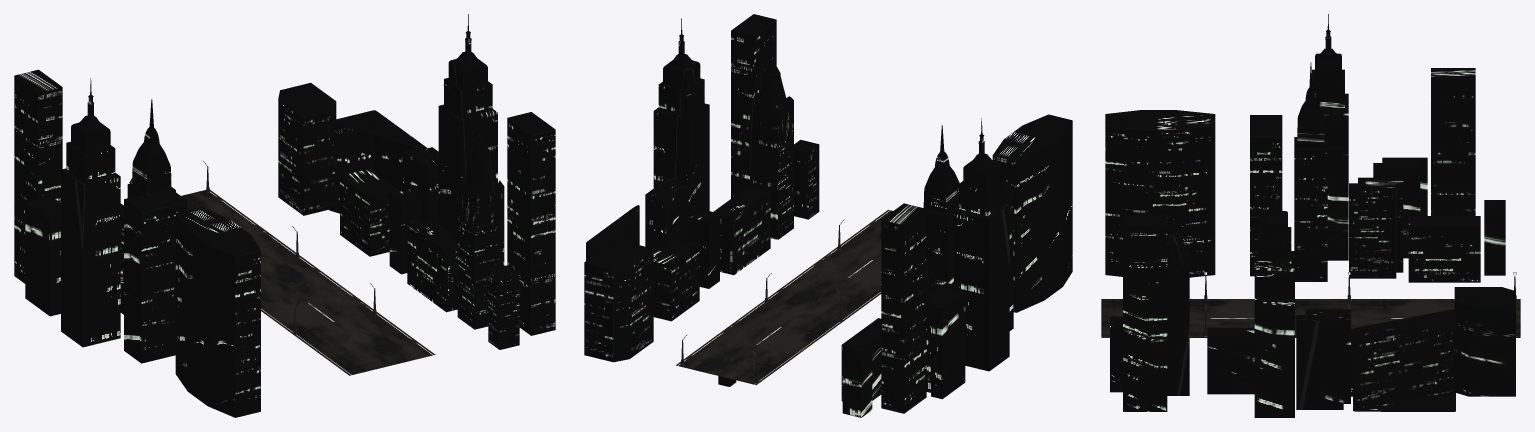
The picture shows the model from 3 angles, left to right: view 1: azimuth 30°, elevation 25°; view 2: azimuth 150°, elevation 25°; view 3: azimuth 270°, elevation 25°; orthographic projection. The views are drawn at different scales.
Visible parts, largest first — view 1: Object_30.001, Object_28.001, 路面, Object_40.002, Object_24.001, Object_40.001, Object_37, Object_14, Object_28, Object_10.002, Object_12.002, Object_6 (+6 smaller); view 2: 路面, Object_30.001, Object_28.001, Object_40.001, Object_14, Object_28, Object_37, Object_40.002, Object_10.002, Object_12.002, Object_35.001, Object_6 (+7 smaller); view 3: Object_30.001, Object_40.002, Object_42, Object_28, Object_14, Object_40.001, Object_35.001, 路面, Object_10.001, Object_10.003, Object_28.001, Object_12.001 (+7 smaller).
Boxes of the visible parts, box(x1,y1,x2,y2) form: Object_30.001: box(175, 207, 260, 417); Object_28.001: box(61, 78, 120, 347); 路面: box(181, 189, 435, 375); Object_40.002: box(507, 112, 555, 335); Object_24.001: box(124, 188, 187, 363); Object_40.001: box(14, 69, 62, 283); Object_37: box(457, 126, 504, 329); Object_14: box(278, 82, 336, 215); Object_28: box(438, 14, 497, 236); Object_10.002: box(25, 199, 60, 316); Object_12.002: box(407, 218, 457, 312); Object_6: box(340, 168, 399, 256); 路面: box(676, 209, 892, 384); Object_30.001: box(992, 114, 1072, 312); Object_28.001: box(954, 118, 1009, 371); Object_40.001: box(881, 203, 926, 413); Object_14: box(584, 241, 653, 362); Object_28: box(653, 18, 709, 242); Object_37: box(750, 49, 793, 239); Object_40.002: box(731, 14, 776, 198); Object_10.002: box(926, 282, 965, 399); Object_12.002: box(713, 186, 770, 275); Object_35.001: box(923, 125, 959, 289); Object_6: box(653, 238, 699, 321); Object_30.001: box(1105, 110, 1215, 277); Object_40.002: box(1123, 215, 1167, 411); Object_42: box(1353, 329, 1455, 411); Object_28: box(1254, 171, 1294, 417); Object_14: box(1454, 287, 1515, 396); Object_40.001: box(1431, 68, 1475, 215); Object_35.001: box(1294, 62, 1327, 281); 路面: box(1101, 299, 1520, 337); Object_10.001: box(1349, 177, 1403, 278); Object_10.003: box(1296, 309, 1350, 409); Object_28.001: box(1312, 14, 1348, 260); Object_12.001: box(1408, 216, 1480, 282).
Bounding box in the file's own units: 63.35 × 41.42 × 64.35.
Materials: 4 (2 with a texture image).
